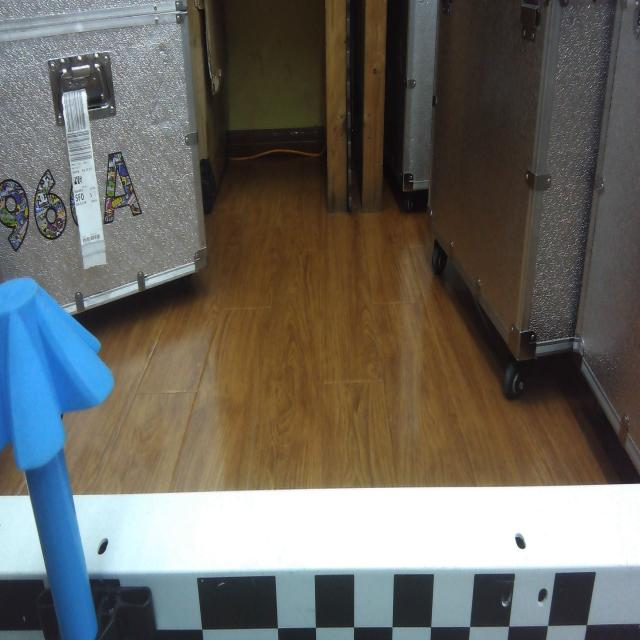zblue-Stake-Head: (0, 277, 114, 469)
